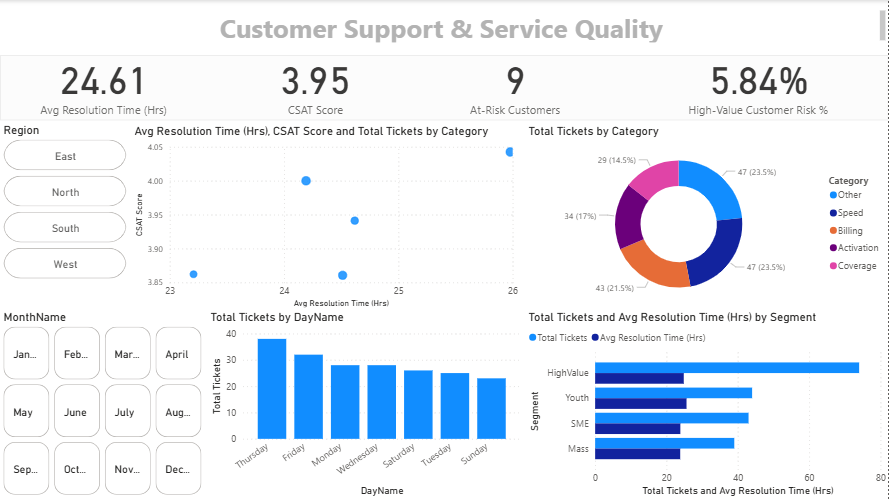

What the dashboard file says about the page in this screenshot:
{"tool":"powerbi","page":{"name":"Page 4","canvas":[1280,720],"ordinal":3},"visuals":[{"type":"card","fields":{"Values":["_Measures.Avg Resolution Time (Hrs)"]},"box":[0,66.2,298.5,107.4],"z":0},{"type":"card","fields":{"Values":["_Measures.CSAT Score"]},"box":[311.8,66.2,283.8,107.4],"z":1000},{"type":"card","fields":{"Values":["_Measures.High-Value Customer Risk %"]},"box":[902.9,66.2,377.9,107.4],"z":3000},{"type":"textbox","box":[0,10,1280.2,56.2],"z":4000},{"type":"scatterChart","fields":{"X":["_Measures.Avg Resolution Time (Hrs)"],"Y":["_Measures.CSAT Score"],"Category":["FactTickets.Category"],"Size":["_Measures.Total Tickets"]},"box":[188.2,177.9,567.6,269.1],"z":5000},{"type":"donutChart","fields":{"Category":["FactTickets.Category"],"Y":["_Measures.Total Tickets"]},"box":[755.9,177.9,523.5,269.1],"z":6000},{"type":"clusteredColumnChart","fields":{"Category":["DimDate.DayName"],"Y":["_Measures.Total Tickets"]},"box":[298.5,447.1,457.4,273.5],"z":7000},{"type":"clusteredBarChart","fields":{"Category":["DimCustomer.Segment"],"Y":["_Measures.Total Tickets","_Measures.Avg Resolution Time (Hrs)"]},"box":[755.9,447.1,525,273.5],"z":8000},{"type":"advancedSlicerVisual","fields":{"Values":["DimDate.MonthName"]},"box":[0,447.1,298.5,273.5],"z":9000},{"type":"advancedSlicerVisual","fields":{"Values":["DimCustomer.Region"]},"box":[0,177.7,187.5,229.9],"z":10000},{"type":"card","fields":{"Values":["_Measures.At-Risk Customers"]},"box":[595.6,66.2,291.2,107.4],"z":11000},{"type":"shape","box":[0,79.4,1279.4,94.1],"z":12000}]}

Visuals, with their boxes in screenshot pixels (x1, y1, x2, y2), scaled from the page's 1280x720 canvas onto the 889x500 screenshot:
card - _Measures.Avg Resolution Time (Hrs): (0, 46, 207, 121)
card - _Measures.CSAT Score: (217, 46, 414, 121)
card - _Measures.High-Value Customer Risk %: (627, 46, 888, 121)
textbox: (0, 7, 888, 46)
scatterChart - _Measures.Avg Resolution Time (Hrs) x _Measures.CSAT Score: (131, 124, 525, 310)
donutChart - FactTickets.Category x _Measures.Total Tickets: (525, 124, 888, 310)
clusteredColumnChart - DimDate.DayName x _Measures.Total Tickets: (207, 310, 525, 499)
clusteredBarChart - DimCustomer.Segment x _Measures.Total Tickets: (525, 310, 888, 499)
advancedSlicerVisual - DimDate.MonthName: (0, 310, 207, 499)
advancedSlicerVisual - DimCustomer.Region: (0, 123, 130, 283)
card - _Measures.At-Risk Customers: (414, 46, 616, 121)
shape: (0, 55, 888, 120)
